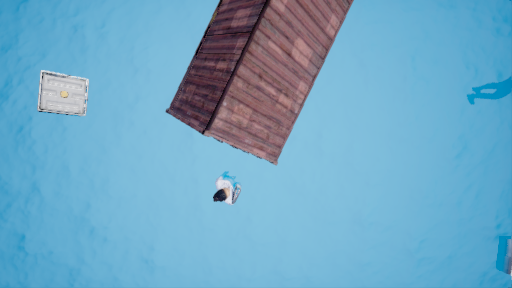person: (213, 171, 248, 209)
